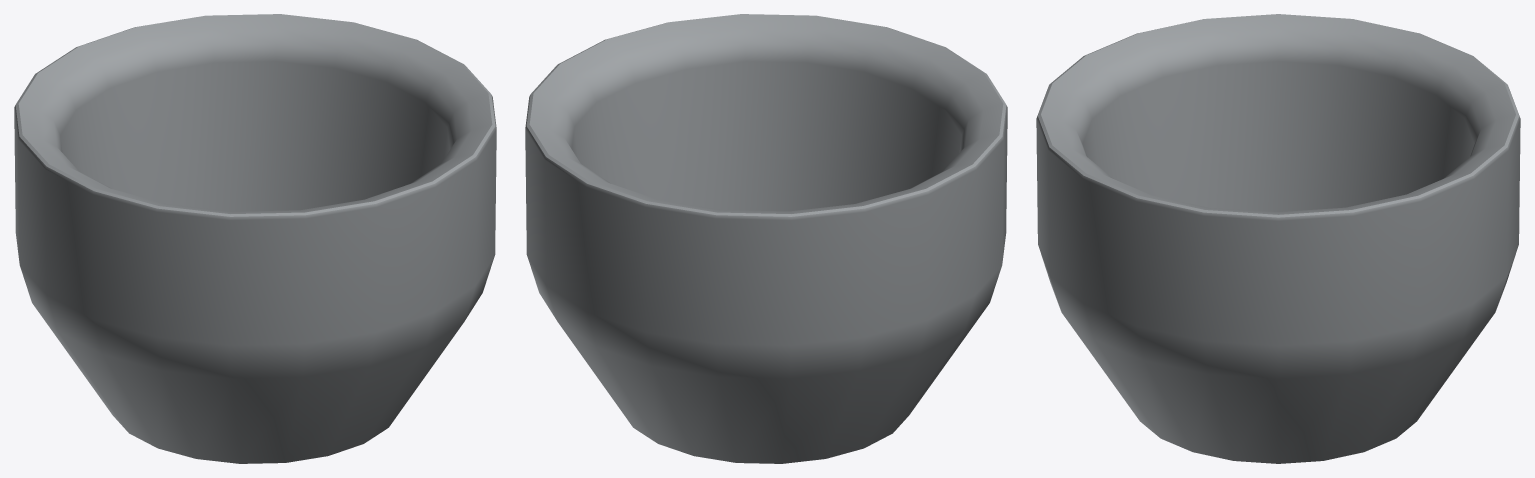
Rendered from Whisking Bowl.fbx.
3 views of the same model, side by side, from view 1: azimuth 30°, elevation 25°; view 2: azimuth 150°, elevation 25°; view 3: azimuth 270°, elevation 25° (orthographic).
Visible parts, largest first — view 1: Whisk_Bowl; view 2: Whisk_Bowl; view 3: Whisk_Bowl.
Part boxes in pixels (box(x1,y1,x2,y2)): Whisk_Bowl: box(14, 14, 496, 463); Whisk_Bowl: box(525, 14, 1007, 463); Whisk_Bowl: box(1036, 14, 1520, 463).
Size of the model in its own units: 3.88 by 2.55 by 3.88.
Materials: 1 (1 with a texture image).
